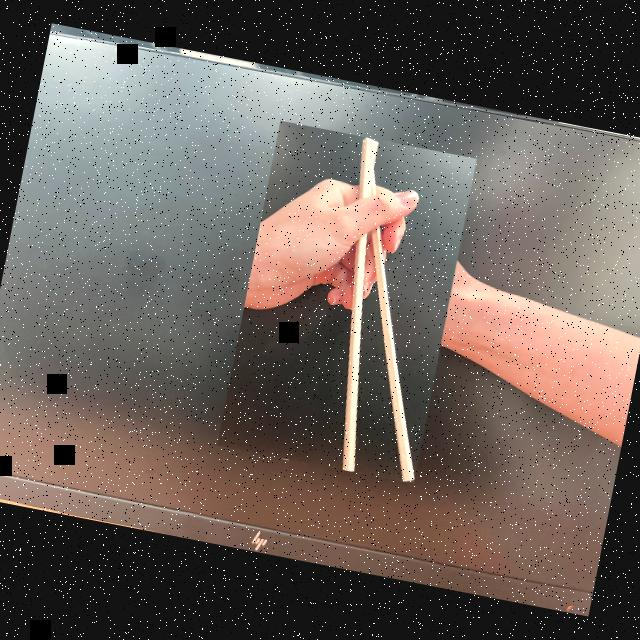stick: (218, 122, 478, 484)
